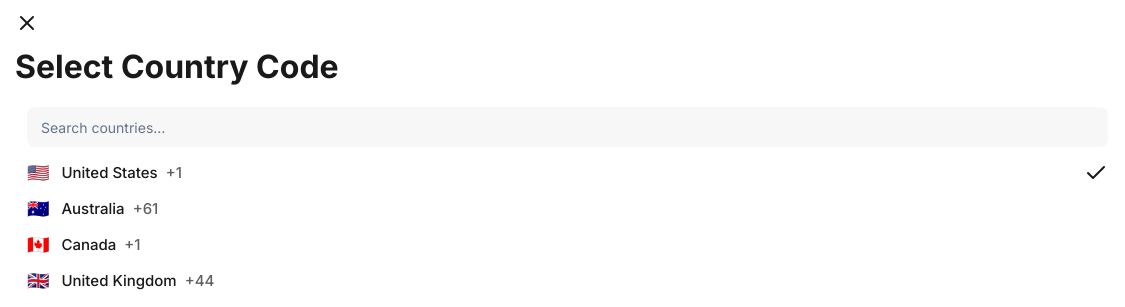
CountryCodeDropdown › should filter countries based on search query
Type "United" into the field with placeholder "Search countries...". click: (568, 127)
box: [27,107,1108,147]
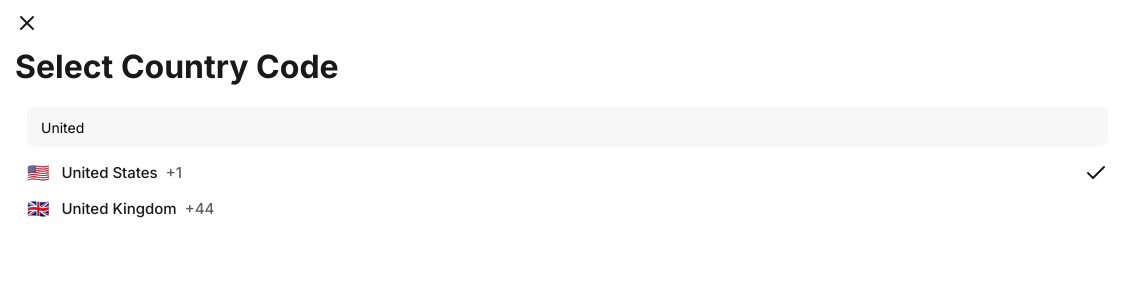
Expected: the text "United States" is shown, [62,162,158,184]
Expected: the button "Canada" is gone
Expected: the button "Australia" is gone
